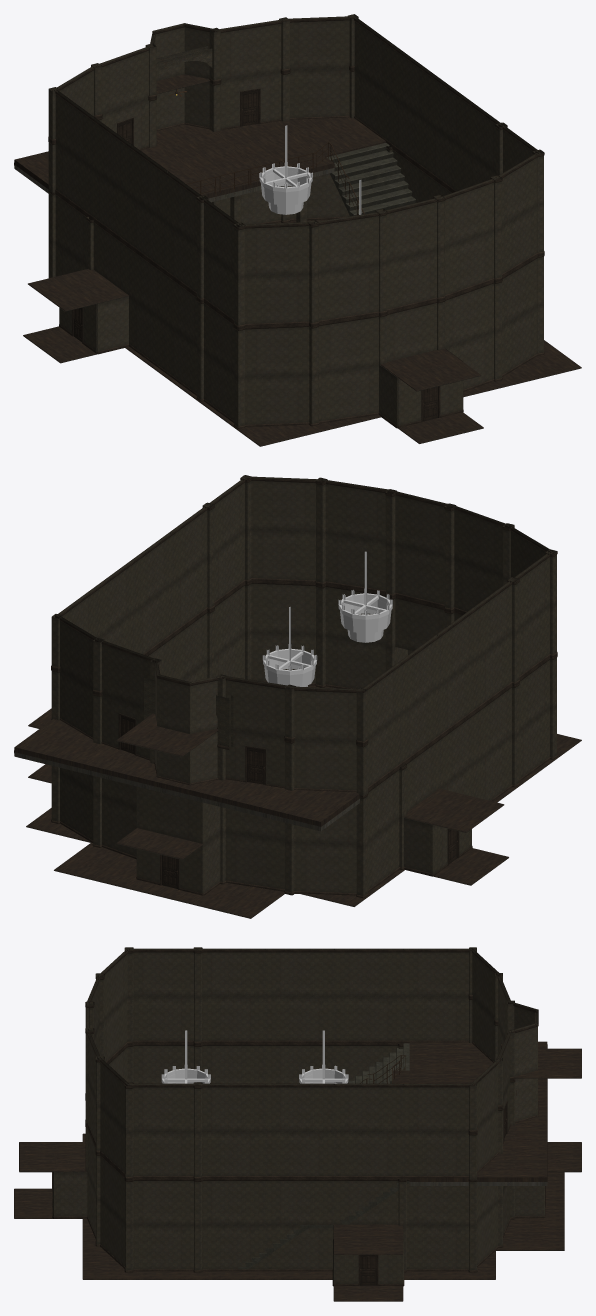
The model's file is Act2Room.BigV.fbx.
The picture shows the model from 3 angles, top to bottom: view 1: azimuth 30°, elevation 25°; view 2: azimuth 150°, elevation 25°; view 3: azimuth 270°, elevation 25°; orthographic projection. The views are drawn at different scales.
Visible parts, largest first — view 1: wall_2_1.116, wall_2_1.117, wall_2_1.115, wall_2_1.114, wall_2_1.019, wall_2_1.071, wall_2_1.124, wall_2_1.125, wall_2_1.123, wall_2_1.141, wall_2_1.056, stairs_4.003 (+79 smaller); view 2: wall_2_1.108, wall_2_1.109, wall_2_1.052, wall_2_1.107, wall_2_1.128, wall_2_1.054, wall_2_1.035, wall_2_1.129, wall_2_1.073, floor_ceiling_1.023, wall_2_1.023, wall_2_1.025 (+84 smaller); view 3: wall_2_1.084, wall_2_1.095, wall_2_1.057, wall_2_1.074, wall_2_1.036, wall_2_1.059, wall_2_1.094, wall_2_1.085, wall_2_1.075, wall_2_1.070, wall_2_1.096, wall_2_1.111 (+63 smaller).
Boxes of the visible parts, x1,y1,x2,y2 form: wall_2_1.116: (239, 222, 314, 276); wall_2_1.117: (245, 273, 309, 326); wall_2_1.115: (245, 324, 309, 376); wall_2_1.114: (245, 374, 309, 426); wall_2_1.019: (214, 19, 285, 80); wall_2_1.071: (281, 16, 357, 70); wall_2_1.124: (313, 211, 384, 272); wall_2_1.125: (319, 263, 378, 323); wall_2_1.123: (319, 314, 378, 373); wall_2_1.141: (319, 364, 378, 423); wall_2_1.056: (290, 68, 349, 119); stairs_4.003: (326, 143, 404, 198); wall_2_1.108: (245, 476, 322, 531); wall_2_1.109: (251, 529, 315, 583); wall_2_1.052: (288, 686, 365, 741); wall_2_1.107: (251, 581, 315, 634); wall_2_1.128: (321, 479, 393, 541); wall_2_1.054: (294, 842, 356, 895); wall_2_1.035: (294, 739, 356, 791); wall_2_1.129: (325, 532, 385, 593); wall_2_1.073: (225, 831, 284, 891); floor_ceiling_1.023: (255, 787, 359, 831); wall_2_1.023: (219, 675, 292, 737); wall_2_1.025: (137, 786, 203, 843); wall_2_1.084: (264, 948, 334, 996); wall_2_1.095: (264, 1083, 334, 1131); wall_2_1.057: (333, 1083, 403, 1131); wall_2_1.074: (333, 948, 403, 996); wall_2_1.036: (334, 996, 402, 1043); wall_2_1.059: (334, 1131, 402, 1178); wall_2_1.094: (265, 1131, 333, 1178); wall_2_1.085: (265, 996, 333, 1043); wall_2_1.075: (402, 948, 472, 996); wall_2_1.070: (402, 1083, 472, 1131); wall_2_1.096: (265, 1178, 333, 1224); wall_2_1.111: (195, 1083, 265, 1131).
Bounding box in the file's own units: 2704 × 1220 × 3304.
